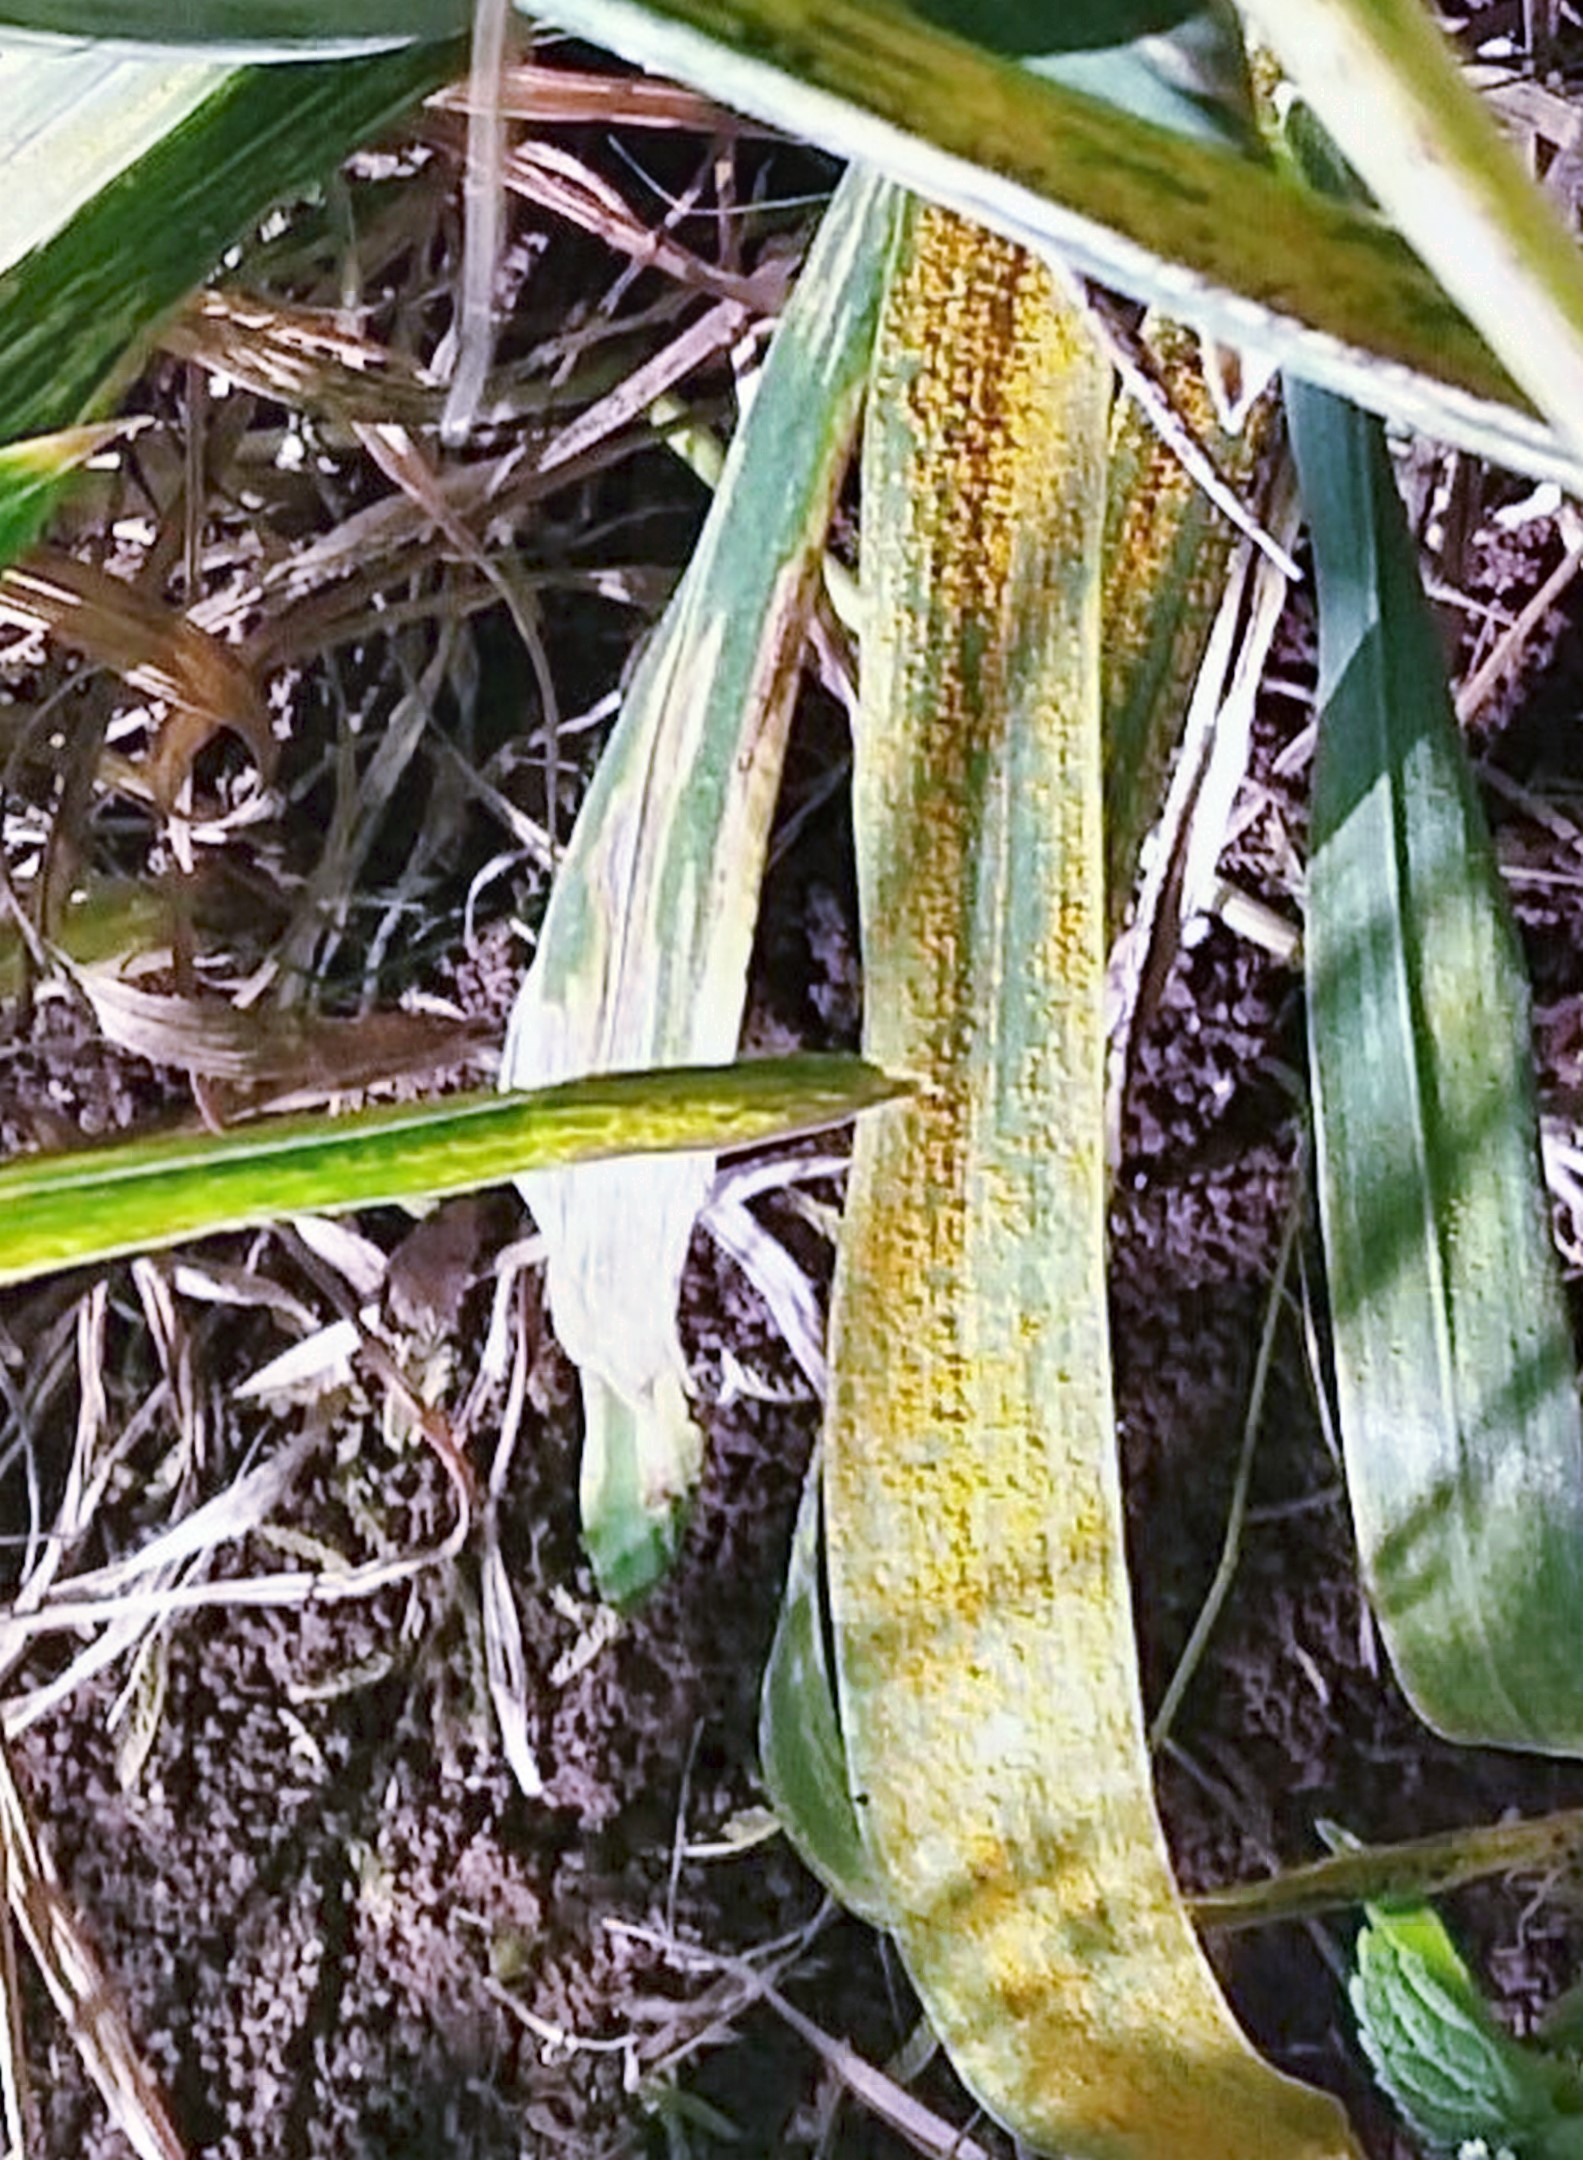Leaf Rust: (843, 285, 1174, 1924)
